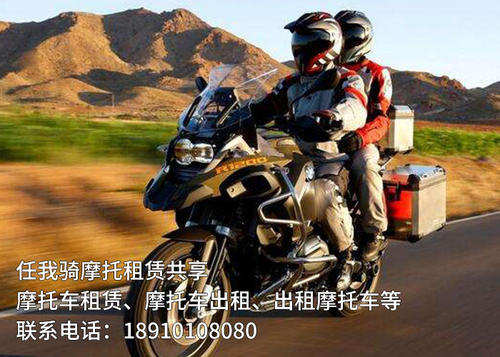motor: (106, 94, 407, 347)
